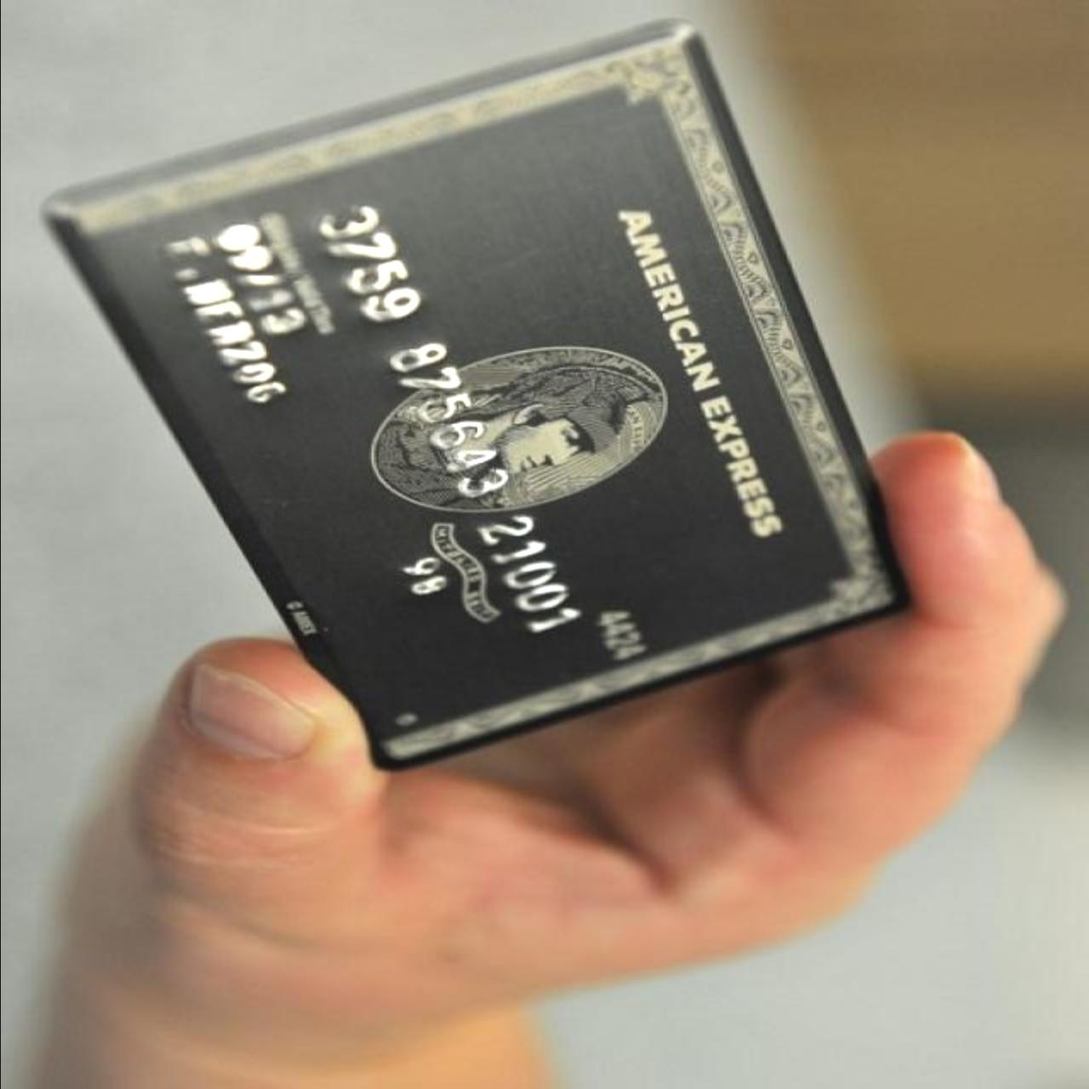credit_card: (44, 37, 909, 769)
